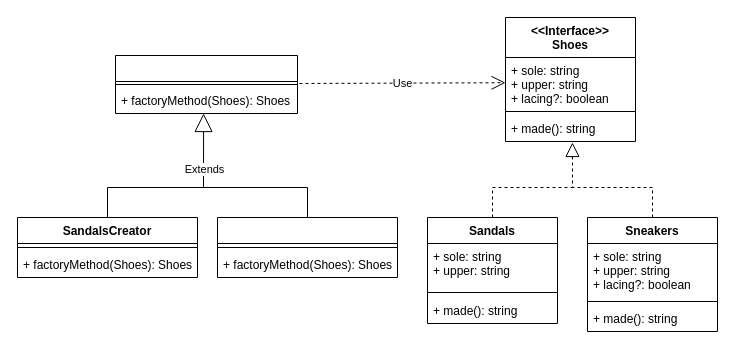
Image size: 735x352. Some labels were removed from this diagram. The shapes that lost their labels are listed below. From the top down, each one's box as (x1, y1, x2, y2) in pixels, then its label:
(114, 54, 298, 114): ShoesCreator
(216, 216, 398, 278): SneakersCreator
